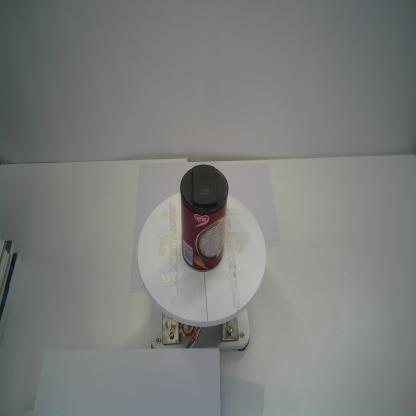Canned Food: (179, 163, 230, 273)
